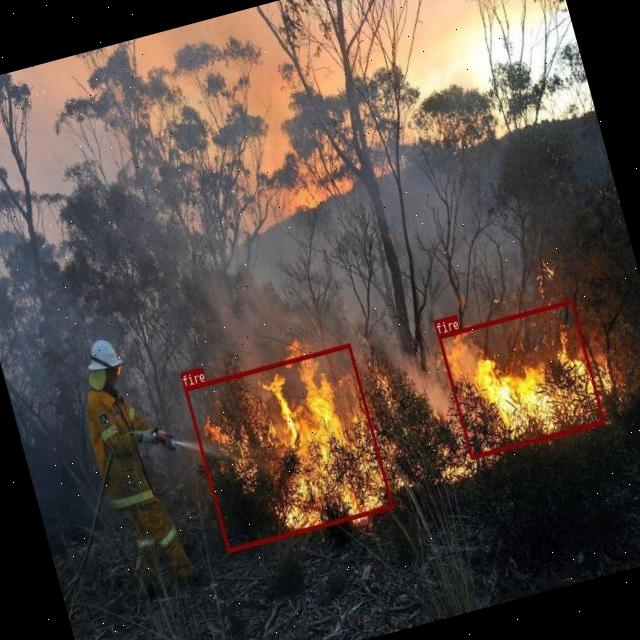fire: (184, 342, 393, 552), (438, 298, 605, 458)
